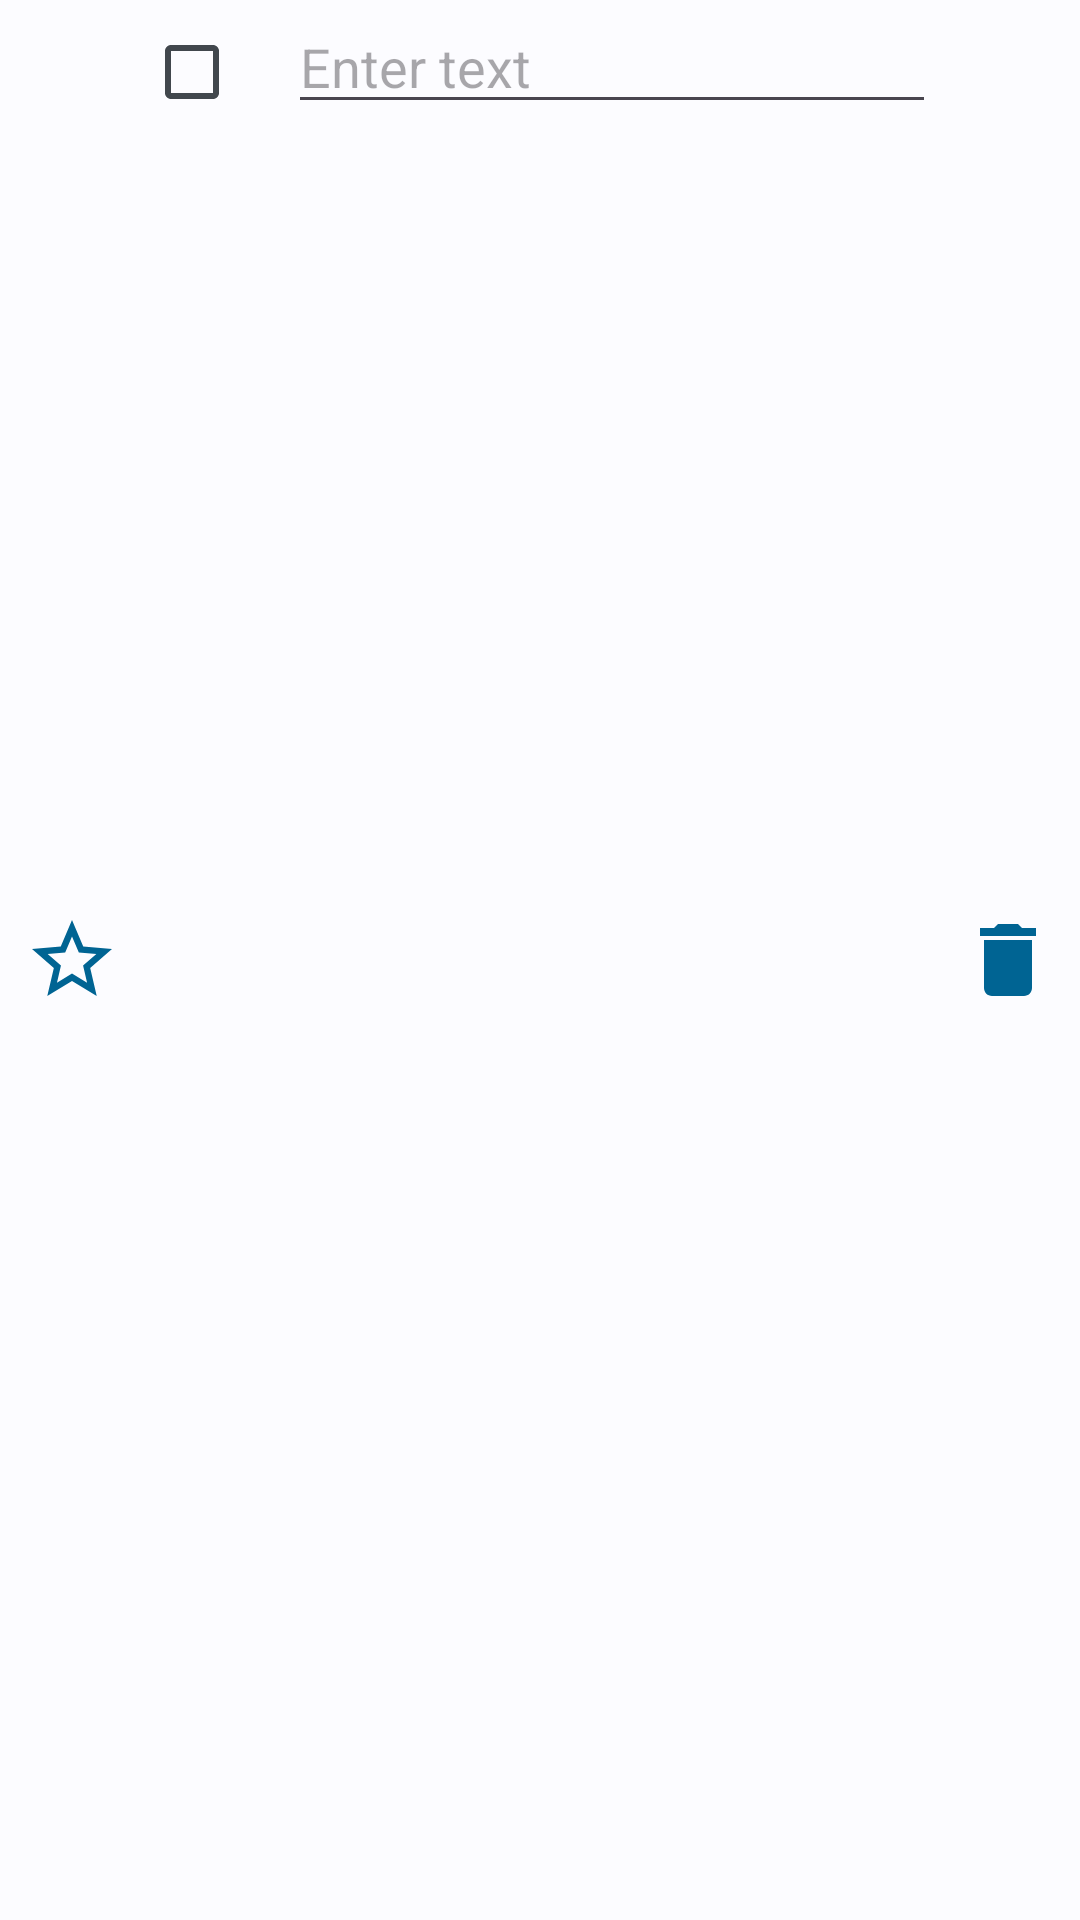

Icons on this 1080 × 1920 Android screen, each with its box as (x1, y1, x2, y2):
delete row: (980, 924, 1036, 996)
star: (32, 920, 112, 996)
